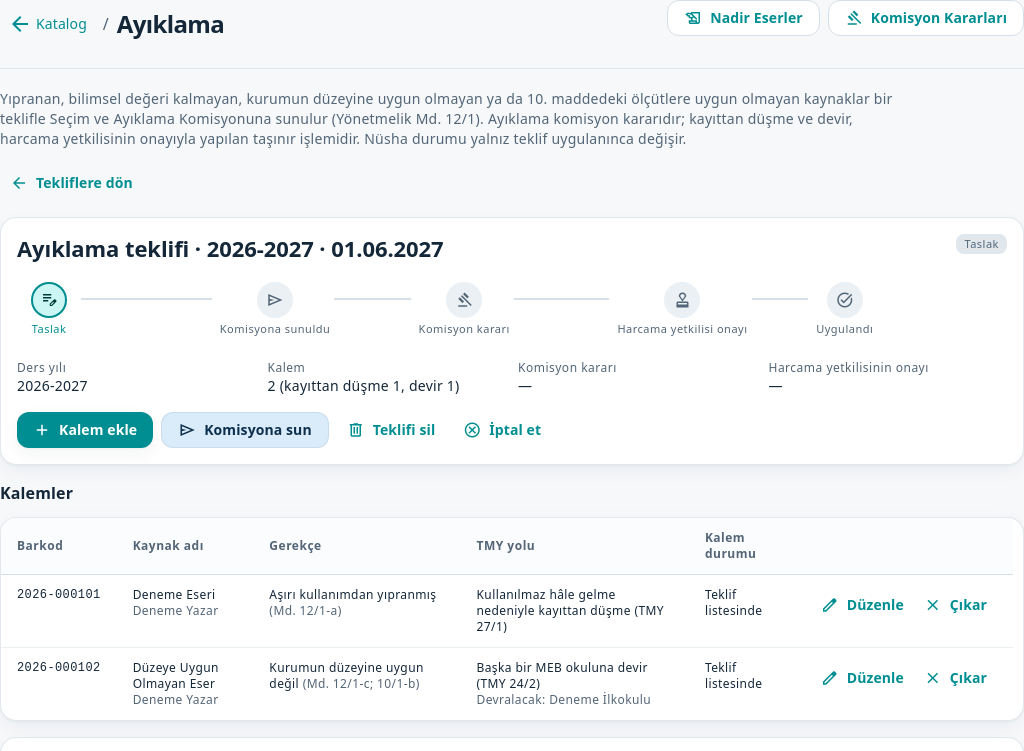
AyiklamaPage — taslak teklif › komisyona sun, kalem çıkar, taslağı sil
Click the button "Komisyona sun" at (245, 430), box [161,412,329,448]
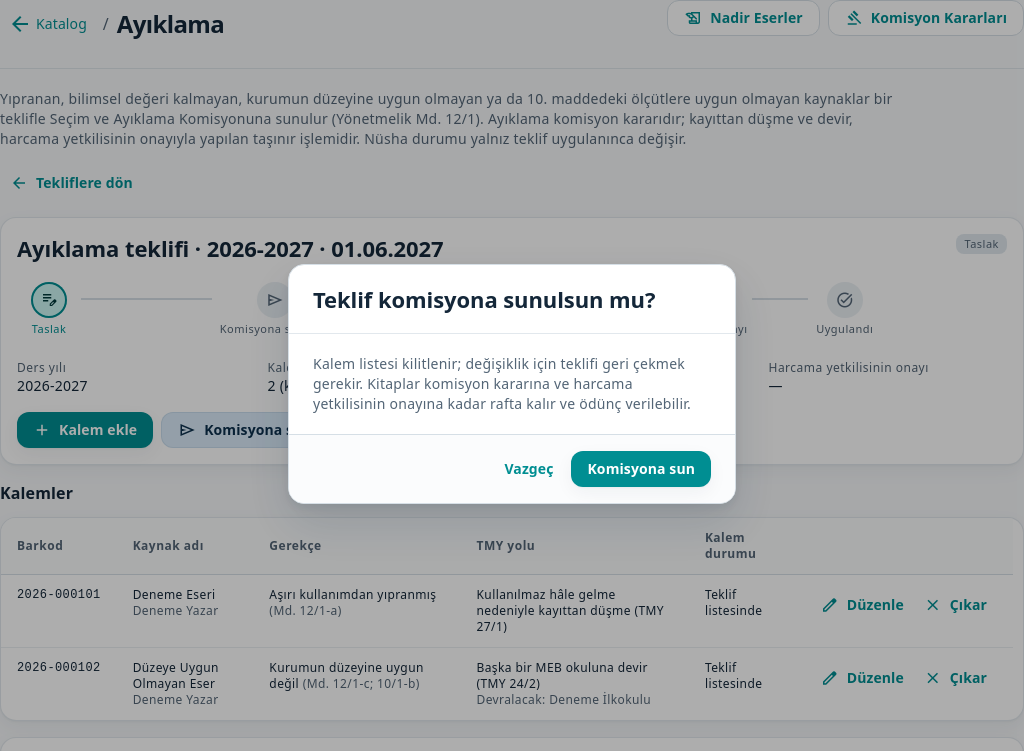
expect the heading "Teklif komisyona sunulsun mu?" is shown: met, box [313,285,711,313]
Click the button "Komisyona sun" at (641, 469), box [572,451,711,487]
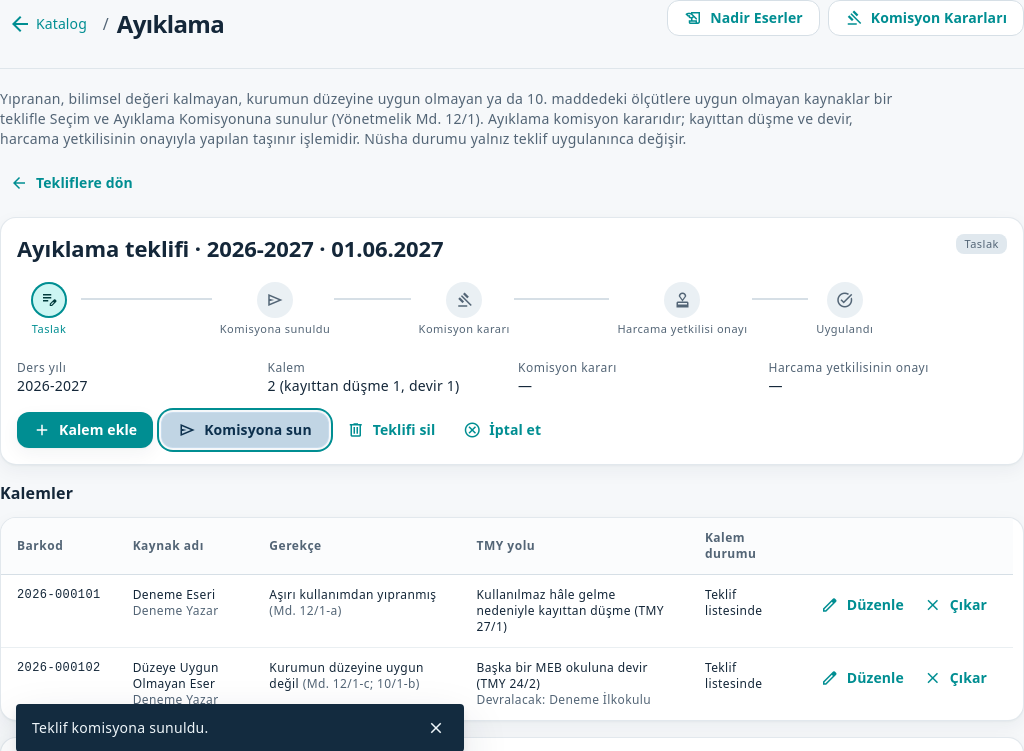
expect the text "Teklif komisyona sunuldu." is shown: met, box [32,718,208,737]
Click the button with aria-label "Deneme Eseri kalemini çıkar" at (955, 605), box [914,587,997,623]
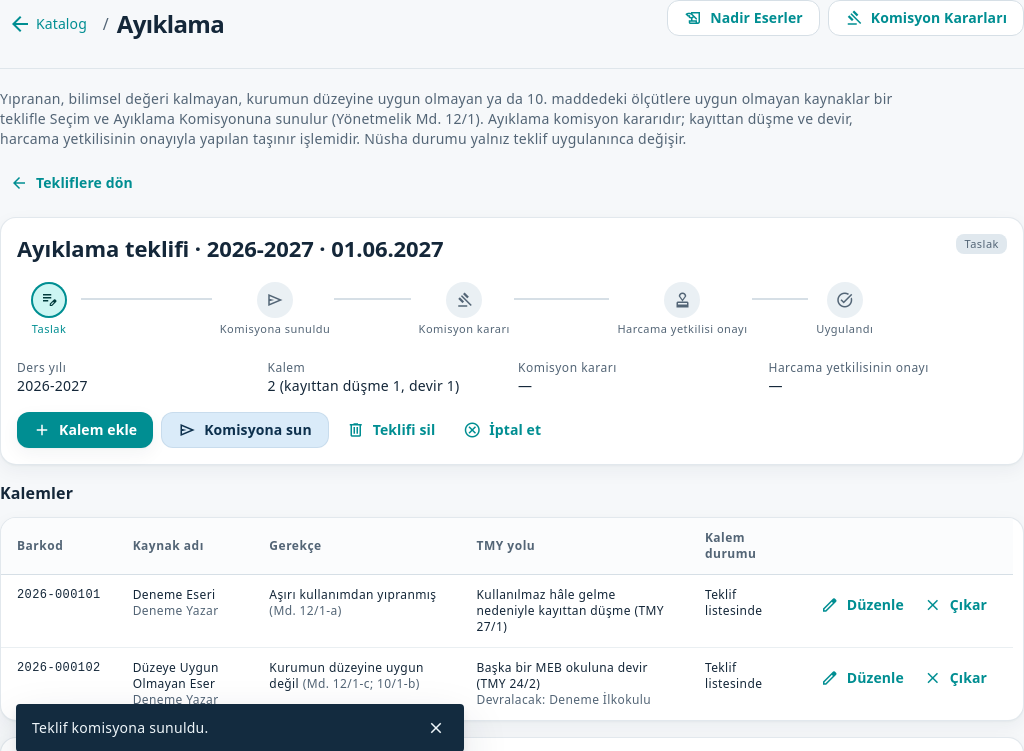
Click the button "Teklifi sil" at (391, 430), box [337,412,445,448]
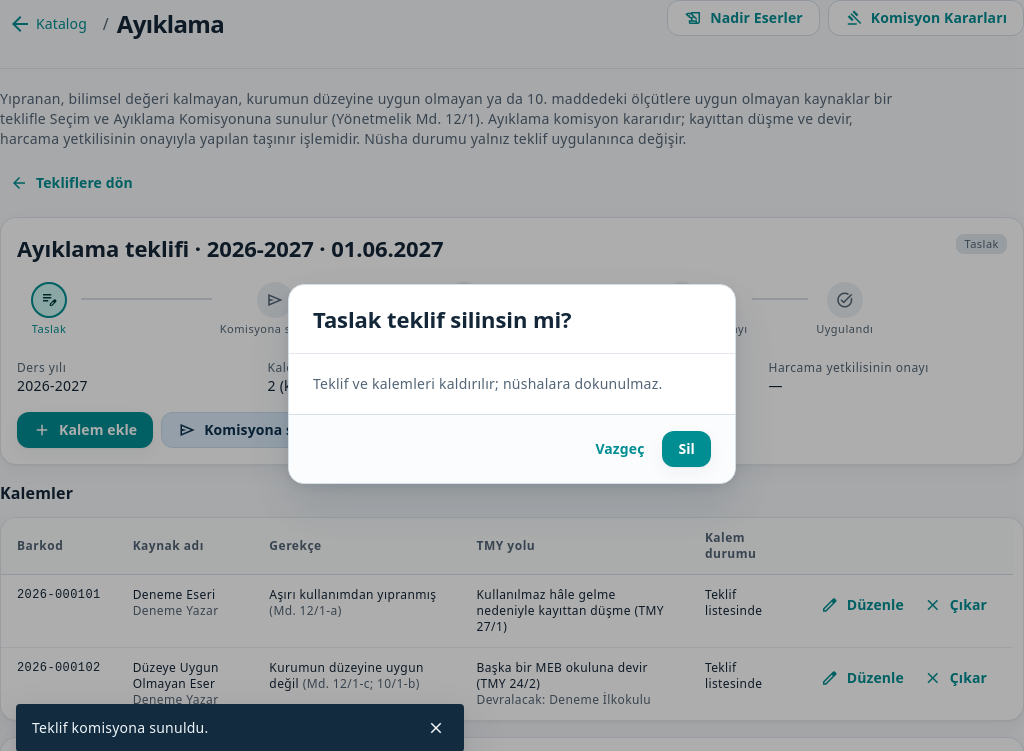
Click the button "Sil" at (687, 449), box [662,431,711,467]
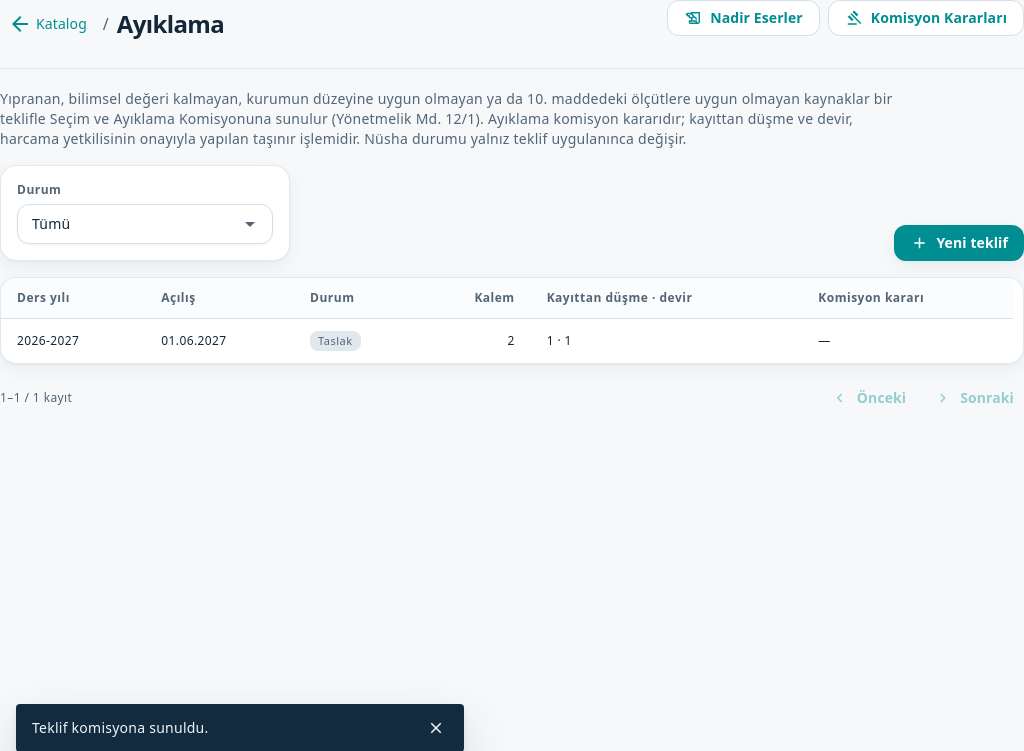
expect the button "Yeni teklif" is shown: met, box [894,225,1023,261]
